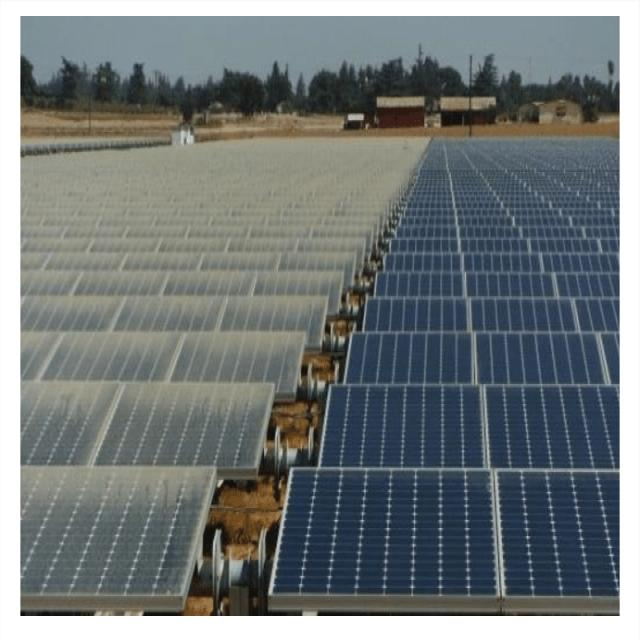clean-solar-panel: (270, 139, 619, 612)
dust-solar-panel: (22, 140, 426, 612)
